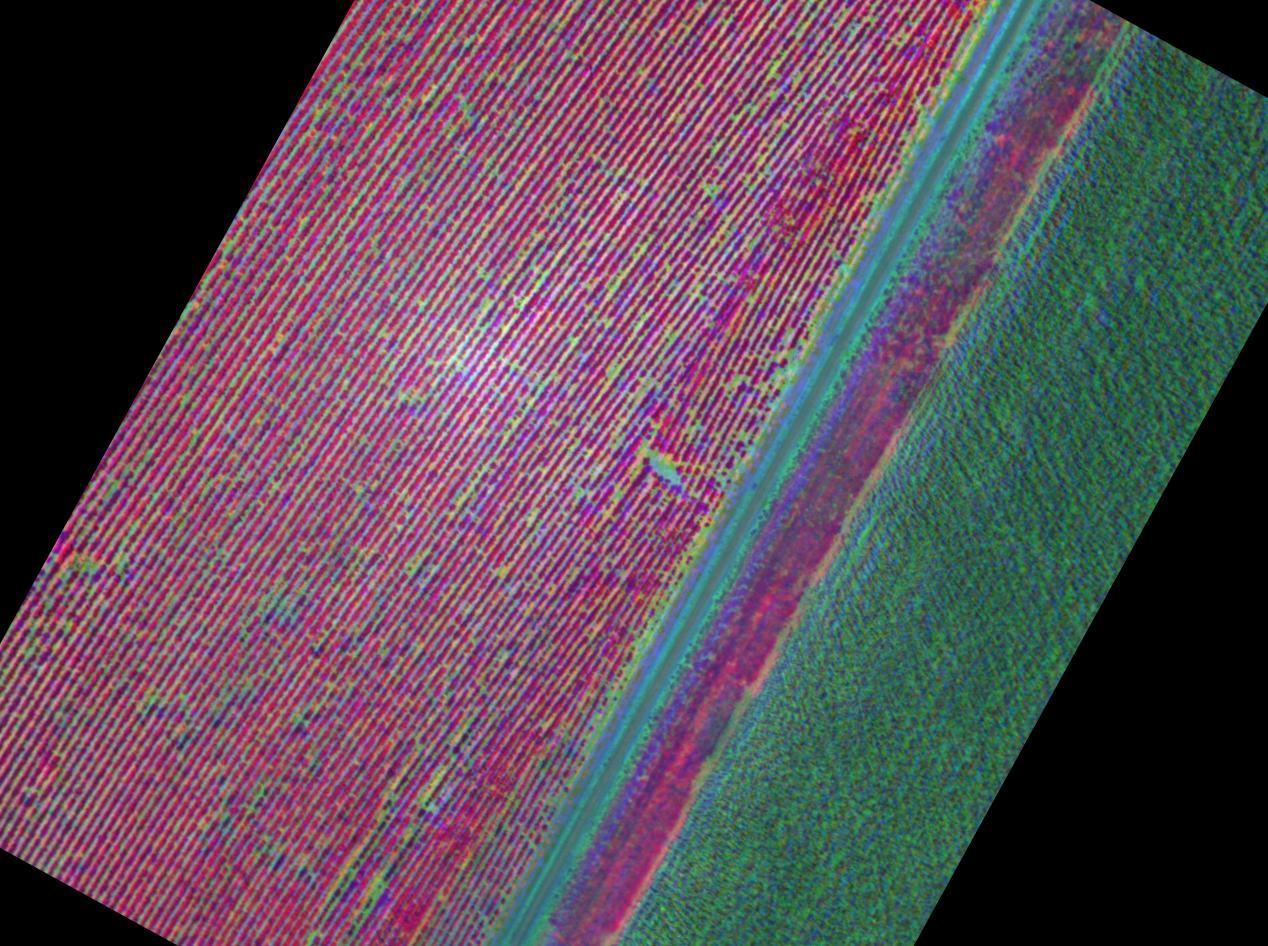dc: (665, 466, 671, 471), (85, 563, 91, 568), (533, 509, 538, 514), (503, 328, 508, 332), (573, 339, 577, 344), (481, 302, 485, 306), (610, 375, 614, 379), (641, 447, 645, 451), (274, 484, 278, 488), (414, 298, 418, 301), (67, 624, 70, 628), (500, 78, 503, 81), (457, 95, 460, 98)
